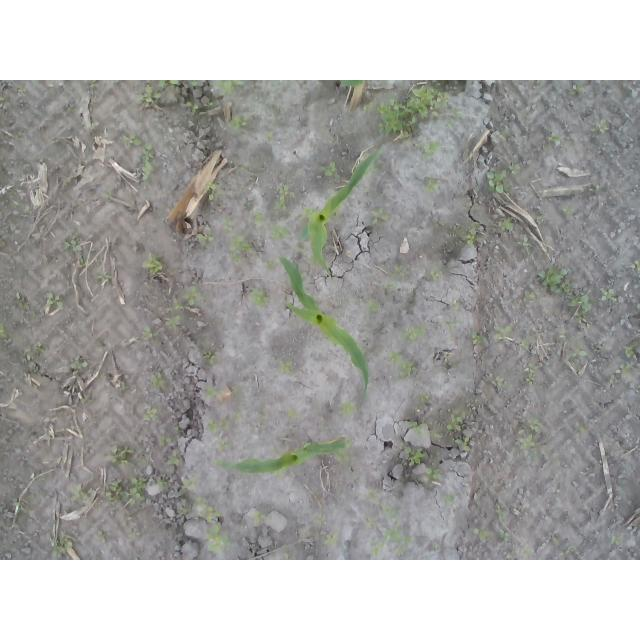Maize: (277, 251, 368, 408), (299, 145, 386, 272), (221, 437, 348, 482)
Weeds: (374, 85, 449, 144), (534, 263, 594, 323), (195, 494, 233, 555), (486, 159, 521, 194), (373, 528, 416, 556), (105, 477, 147, 503), (563, 334, 590, 370), (387, 351, 418, 377), (408, 418, 448, 438), (229, 234, 254, 264), (519, 415, 541, 449), (208, 411, 241, 433), (456, 220, 481, 248), (384, 264, 409, 289), (142, 144, 157, 181), (138, 84, 161, 108), (51, 536, 73, 561), (403, 444, 427, 466), (383, 501, 401, 530), (228, 112, 256, 130), (402, 322, 427, 342), (167, 302, 184, 331), (320, 159, 341, 181), (142, 253, 165, 273), (416, 141, 440, 160), (111, 447, 136, 465), (273, 182, 289, 210), (123, 128, 142, 150), (215, 80, 241, 96), (523, 362, 540, 386), (446, 414, 466, 434), (63, 231, 82, 252), (250, 287, 271, 306), (23, 343, 45, 361), (0, 320, 16, 344), (183, 287, 201, 308), (143, 405, 162, 424), (207, 181, 225, 201), (70, 486, 91, 503), (469, 526, 491, 542), (523, 287, 541, 306), (494, 325, 513, 343), (543, 127, 561, 146), (272, 224, 292, 241), (447, 107, 463, 128), (496, 502, 513, 521), (416, 391, 433, 410), (371, 208, 390, 225), (338, 399, 355, 417), (519, 237, 536, 255), (277, 358, 296, 374), (455, 436, 472, 453), (423, 176, 440, 193), (623, 341, 639, 359), (591, 118, 609, 134), (70, 355, 89, 370), (599, 288, 618, 303), (425, 467, 443, 482), (46, 291, 63, 306), (496, 217, 513, 232), (95, 270, 113, 284), (567, 82, 585, 96), (204, 381, 218, 399), (446, 318, 466, 330), (466, 331, 482, 346), (201, 351, 217, 366), (560, 543, 577, 557), (367, 297, 382, 312), (151, 371, 166, 386), (521, 544, 535, 560), (141, 325, 159, 337), (197, 231, 215, 242), (497, 529, 511, 543), (218, 440, 233, 453), (622, 362, 635, 377), (429, 264, 441, 280), (96, 528, 108, 544), (253, 511, 264, 528), (185, 101, 199, 114), (364, 514, 376, 529), (127, 527, 142, 539), (159, 434, 174, 446), (323, 532, 338, 544), (159, 80, 181, 88), (442, 495, 458, 506), (223, 216, 234, 232), (182, 479, 197, 490), (367, 487, 377, 503), (362, 102, 375, 114), (253, 212, 265, 225), (496, 375, 507, 389), (519, 337, 530, 351), (630, 259, 640, 273), (168, 454, 179, 466), (450, 302, 463, 312), (282, 544, 290, 560), (611, 534, 621, 546), (17, 84, 27, 96), (63, 175, 73, 187), (267, 260, 277, 272), (103, 191, 114, 201), (286, 409, 298, 418), (532, 80, 545, 88), (157, 479, 167, 489), (316, 514, 325, 525), (608, 373, 617, 384), (562, 207, 573, 216), (206, 96, 214, 108), (263, 132, 273, 141), (68, 104, 78, 112), (87, 80, 97, 88), (190, 80, 202, 86), (0, 96, 8, 105), (244, 202, 253, 210), (15, 504, 21, 513)
